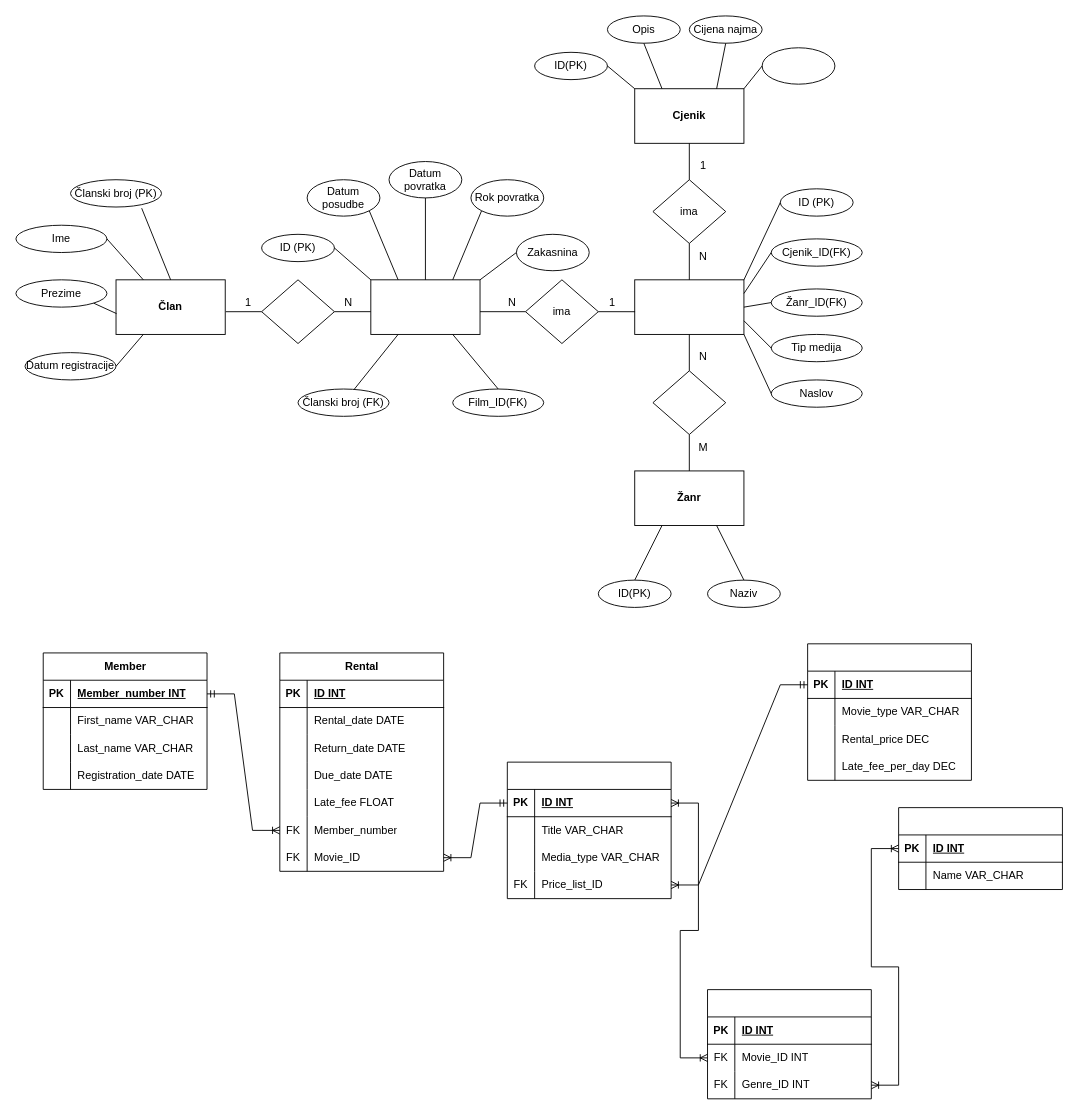
This 1078x1115 diagram has some shape labels left out. The box of each missing label's shape, as (x1, y1, x2, y2) in pixels:
Cijena zakasnine: (761, 47, 835, 84)
Film: (634, 279, 744, 334)
Genre: (898, 807, 1062, 890)
je: (652, 370, 726, 435)
Movie: (506, 761, 671, 899)
Movie_Genre: (707, 989, 871, 1099)
Posudba: (370, 279, 480, 334)
posuđuje: (261, 279, 334, 344)
Price_list: (807, 643, 971, 780)
